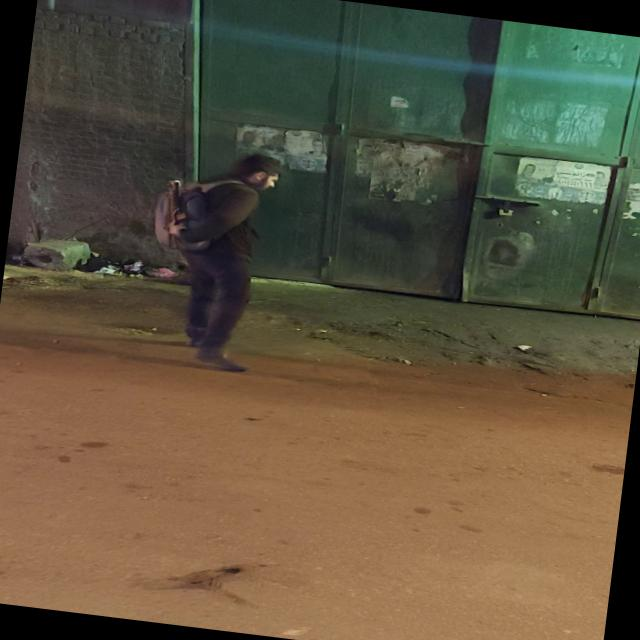long weapon: (142, 168, 212, 254)
